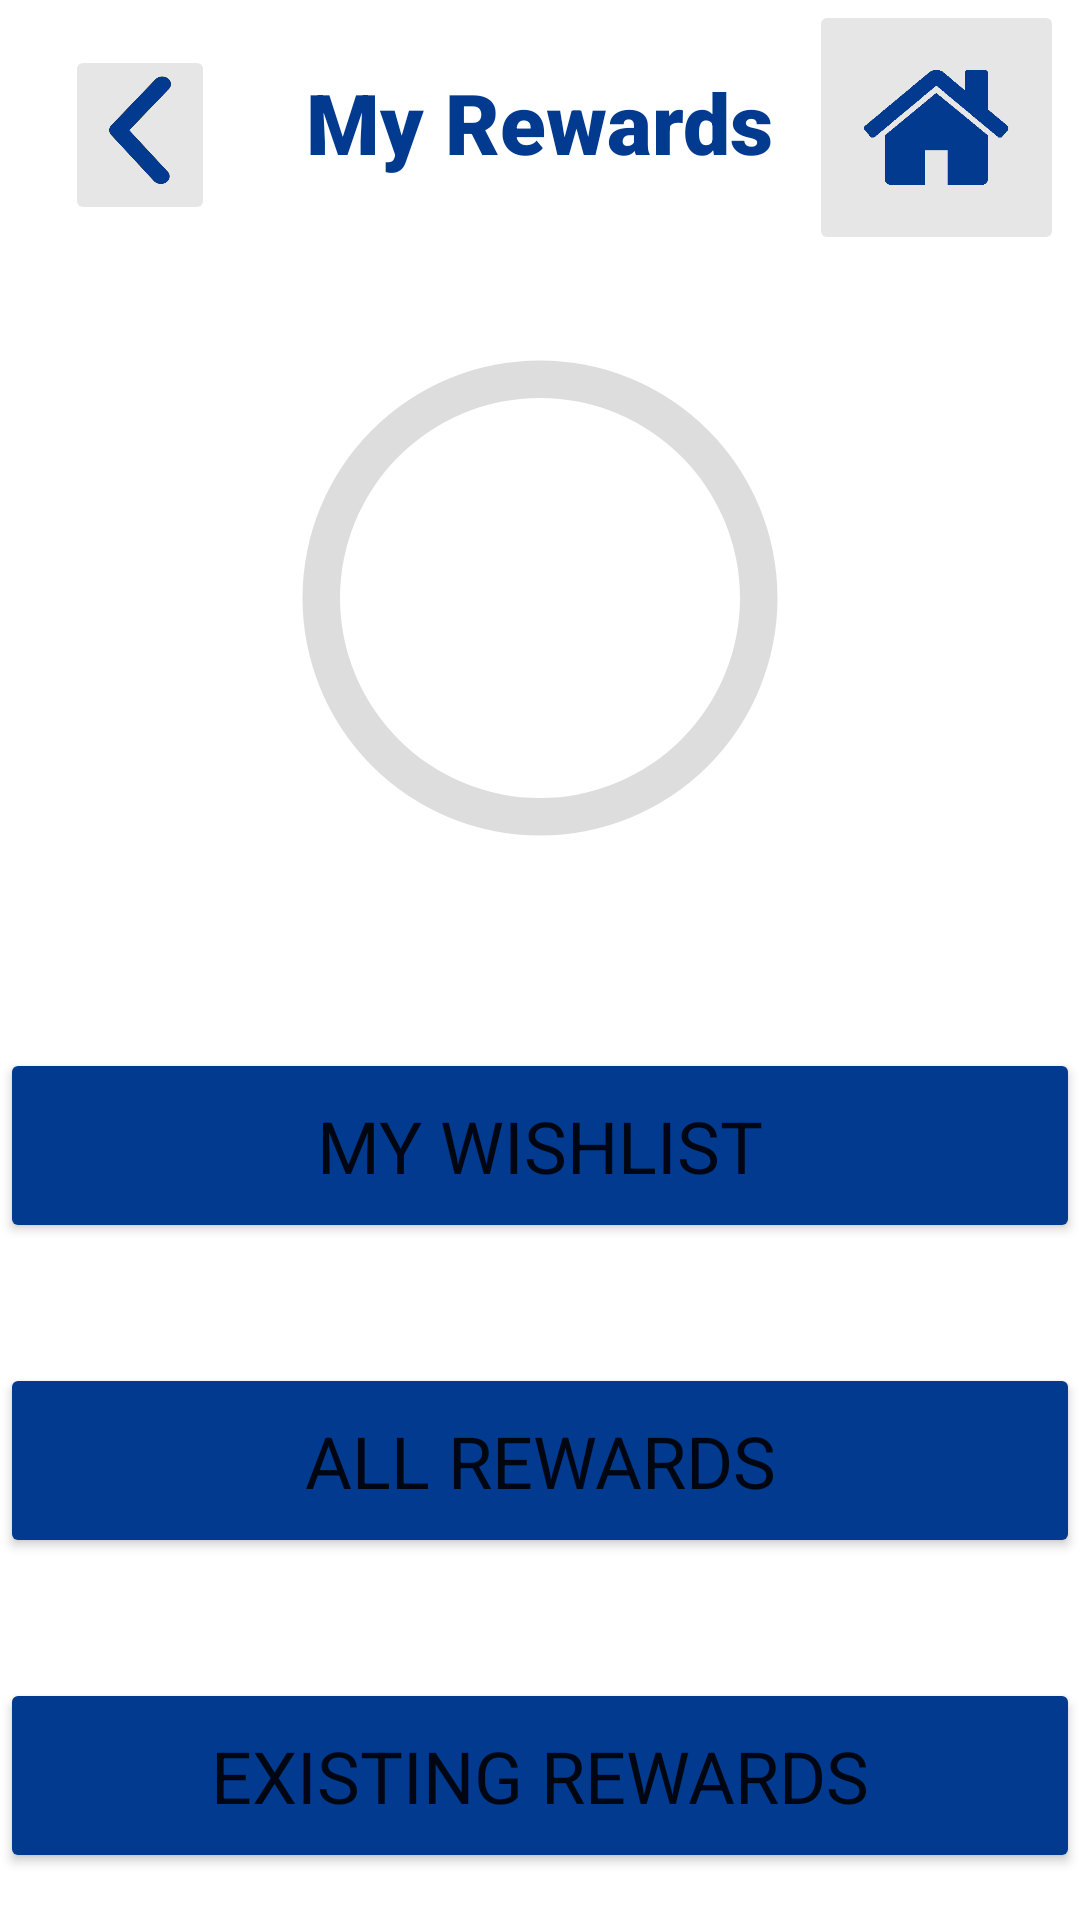

Locate icon controls on the screen. Image size 1080 x 1920, boxes as detection(x1, y1, x2, y2).
arrow: detection(77, 63, 203, 207)
home: detection(821, 18, 1052, 237)
